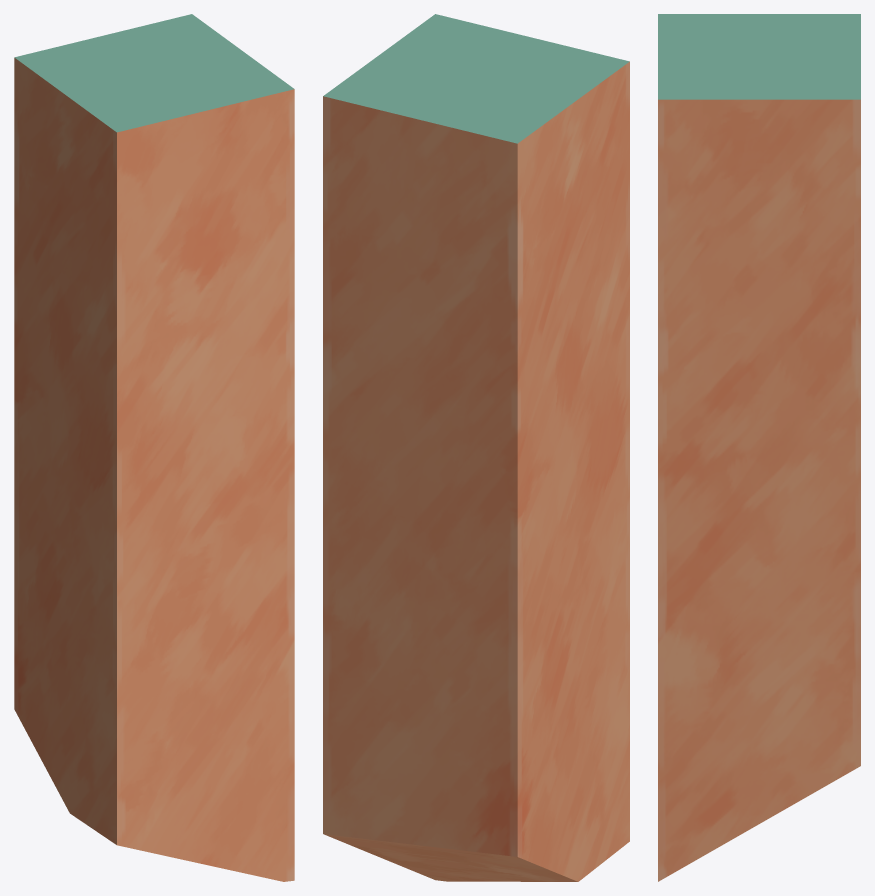
The model's file is corner_s02.fbx.
3 views of the same model, side by side, from view 1: azimuth 30°, elevation 25°; view 2: azimuth 150°, elevation 25°; view 3: azimuth 270°, elevation 25° (orthographic). The views are drawn at different scales.
Parts seen in each view (by area): view 1: corner_s02; view 2: corner_s02; view 3: corner_s02.
Boxes of the visible parts, x1,y1,x2,y2 form: corner_s02: (14,14,294,881); corner_s02: (323,14,629,881); corner_s02: (658,14,860,881).
Bounding box in the file's own units: 1.5 × 6.38 × 1.5.
